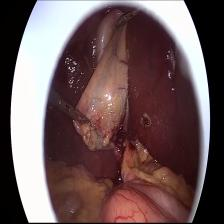Grasper: (55, 91, 95, 142), (110, 6, 140, 36)
